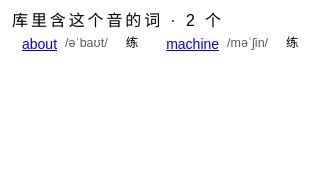
Scenario: 在音素页上练这个音 › 再点一次收起来
Click the button "练" next to "əˈbaʊt". click: (132,44)
box: [116,30,148,57]
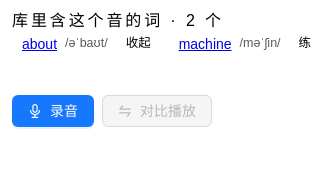
Expected: the text "录音" is shown, [50,103,78,119]
Click the button "收起". click: (138,44)
box: [116,30,161,57]
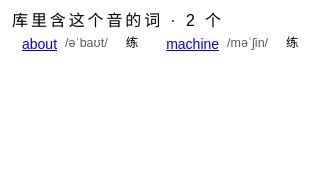
Expected: the text "录音" is gone
